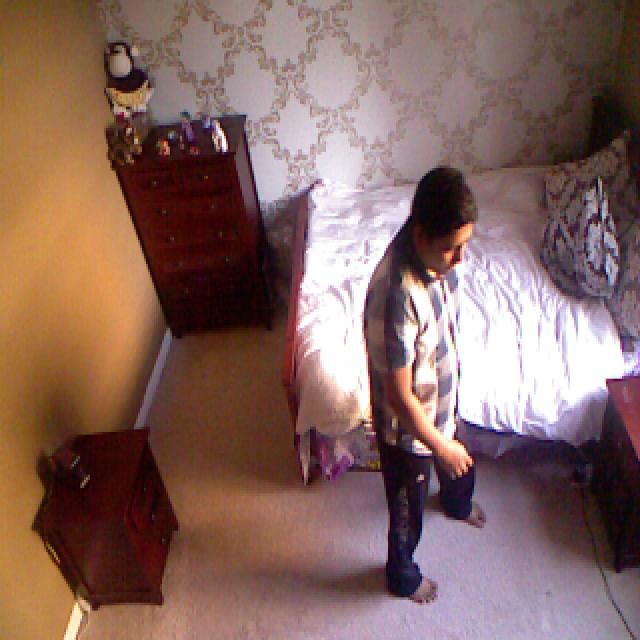standing: (359, 162, 504, 612)
